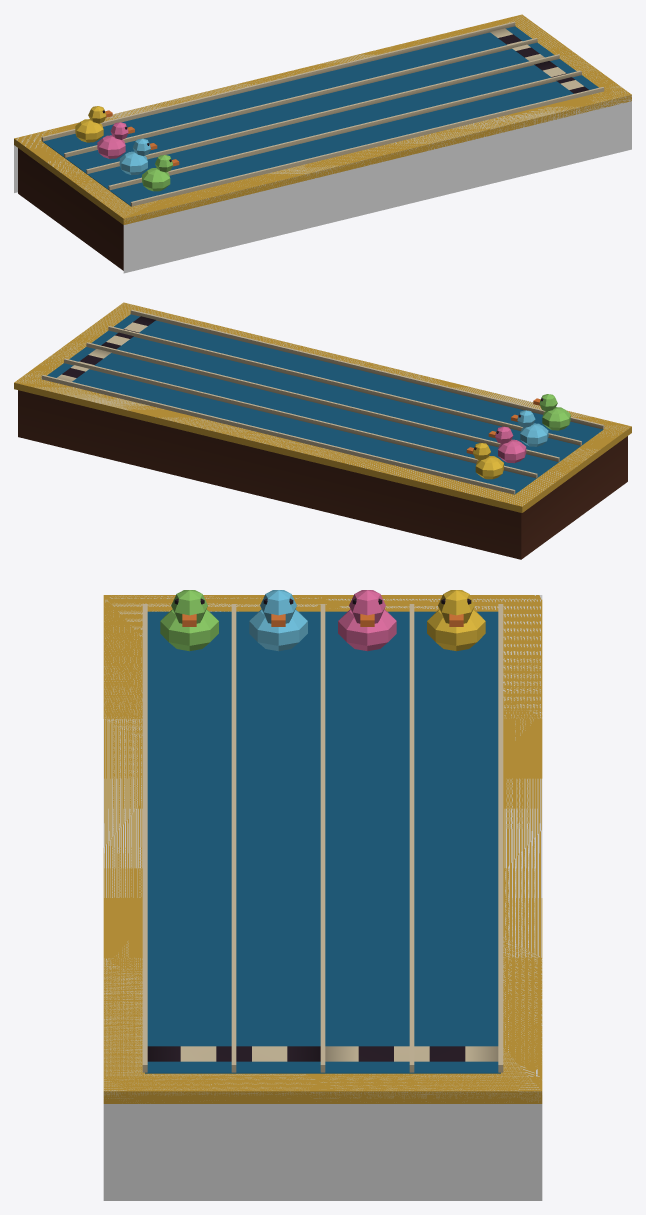
File: duck_track.glb
3 views of the same model, one above another, from view 1: azimuth 30°, elevation 25°; view 2: azimuth 150°, elevation 25°; view 3: azimuth 270°, elevation 25° (orthographic). The views are drawn at different scales.
Visible parts, largest first — view 1: duck_track, COL_0, DYN_duck0, DYN_duck1, DYN_duck2, DYN_duck3; view 2: duck_track, COL_0, DYN_duck3, DYN_duck2, DYN_duck1, DYN_duck0; view 3: duck_track, COL_0, DYN_duck1, DYN_duck2, DYN_duck0, DYN_duck3.
Part boxes in pixels (x1=…): duck_track: x1=14, y1=14, x2=631, y2=270; COL_0: x1=14, y1=15, x2=631, y2=273; DYN_duck0: x1=75, y1=106, x2=112, y2=142; DYN_duck1: x1=97, y1=122, x2=134, y2=158; DYN_duck2: x1=119, y1=138, x2=157, y2=175; DYN_duck3: x1=142, y1=155, x2=179, y2=191; duck_track: x1=14, y1=302, x2=631, y2=559; COL_0: x1=16, y1=303, x2=628, y2=506; DYN_duck3: x1=533, y1=394, x2=570, y2=430; DYN_duck2: x1=511, y1=410, x2=548, y2=446; DYN_duck1: x1=488, y1=426, x2=526, y2=463; DYN_duck0: x1=466, y1=443, x2=503, y2=479; duck_track: x1=103, y1=595, x2=542, y2=1103; COL_0: x1=103, y1=595, x2=542, y2=1200; DYN_duck1: x1=338, y1=590, x2=396, y2=651; DYN_duck2: x1=249, y1=590, x2=307, y2=651; DYN_duck0: x1=427, y1=590, x2=485, y2=651; DYN_duck3: x1=160, y1=590, x2=218, y2=651.
Size of the model in its own units: 9.9 by 1.63 by 3.7.
